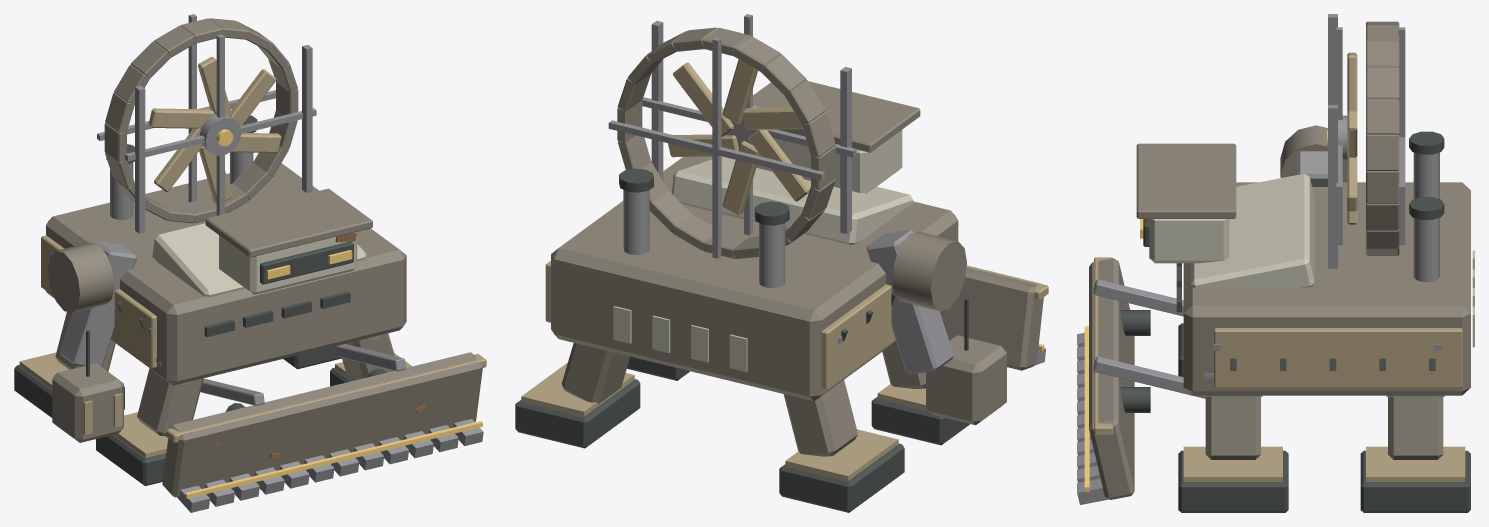
File: ballast.glb
3 views of the same model, side by side, from view 1: azimuth 30°, elevation 25°; view 2: azimuth 150°, elevation 25°; view 3: azimuth 270°, elevation 25° (orthographic). The views are drawn at different scales.
Parts seen in each view (by area): view 1: ball_iron.004, ball_iron.026, ball_iron.005, ball_iron.028, ball_enamel, ball_iron.027, steel.031, ball_enamel.001, ball_paint.004, ball_iron.002, glow.003, ball_black.002 (+36 smaller); view 2: ball_iron.004, ball_enamel, ball_iron.026, ball_iron.028, ball_iron.027, steel.031, ball_iron.005, ball_paint.004, ball_black.001, ball_black.003, ball_iron.003, ball_iron.001 (+42 smaller); view 3: ball_iron.004, ball_paint.005, ball_enamel, ball_iron.005, ball_iron.026, ball_black, ball_black.001, ball_enamel.001, ball_iron, ball_iron.001, ball_paint.001, ball_paint (+28 smaller).
Boxes of the visible parts, left/top/right/bottom form: ball_iron.004: left=46, top=163, right=406, bottom=385; ball_iron.026: left=162, top=352, right=483, bottom=497; ball_iron.005: left=205, top=188, right=372, bottom=257; ball_iron.028: left=52, top=363, right=123, bottom=442; ball_enamel: left=152, top=223, right=366, bottom=297; ball_iron.027: left=48, top=242, right=114, bottom=312; steel.031: left=59, top=241, right=136, bottom=366; ball_enamel.001: left=219, top=232, right=357, bottom=294; ball_paint.004: left=41, top=235, right=156, bottom=368; ball_iron.002: left=137, top=368, right=203, bottom=436; glow.003: left=185, top=421, right=482, bottom=498; ball_black.002: left=96, top=434, right=166, bottom=485; ball_iron.004: left=551, top=156, right=958, bottom=401; ball_enamel: left=671, top=156, right=913, bottom=245; ball_iron.026: left=940, top=265, right=1043, bottom=370; ball_iron.028: left=926, top=335, right=1006, bottom=425; ball_iron.027: left=892, top=231, right=966, bottom=311; steel.031: left=866, top=230, right=953, bottom=374; ball_iron.005: left=753, top=81, right=920, bottom=152; ball_paint.004: left=821, top=284, right=895, bottom=389; ball_black.001: left=515, top=379, right=640, bottom=448; ball_black.003: left=779, top=443, right=904, bottom=512; ball_iron.003: left=783, top=380, right=857, bottom=456; ball_iron.001: left=561, top=343, right=629, bottom=404; ball_iron.004: left=1183, top=182, right=1470, bottom=395; ball_paint.005: left=1214, top=328, right=1462, bottom=387; ball_enamel: left=1190, top=173, right=1314, bottom=288; ball_iron.005: left=1136, top=143, right=1236, bottom=218; ball_iron.026: left=1089, top=258, right=1134, bottom=499; ball_black: left=1178, top=450, right=1288, bottom=512; ball_black.001: left=1360, top=450, right=1470, bottom=512; ball_enamel.001: left=1149, top=219, right=1229, bottom=263; ball_iron: left=1205, top=396, right=1260, bottom=459; ball_iron.001: left=1388, top=396, right=1443, bottom=459; ball_paint.001: left=1366, top=446, right=1465, bottom=481; ball_paint: left=1183, top=446, right=1282, bottom=481.
Size of the model in its own units: 8.03 by 8.08 by 7.2.
